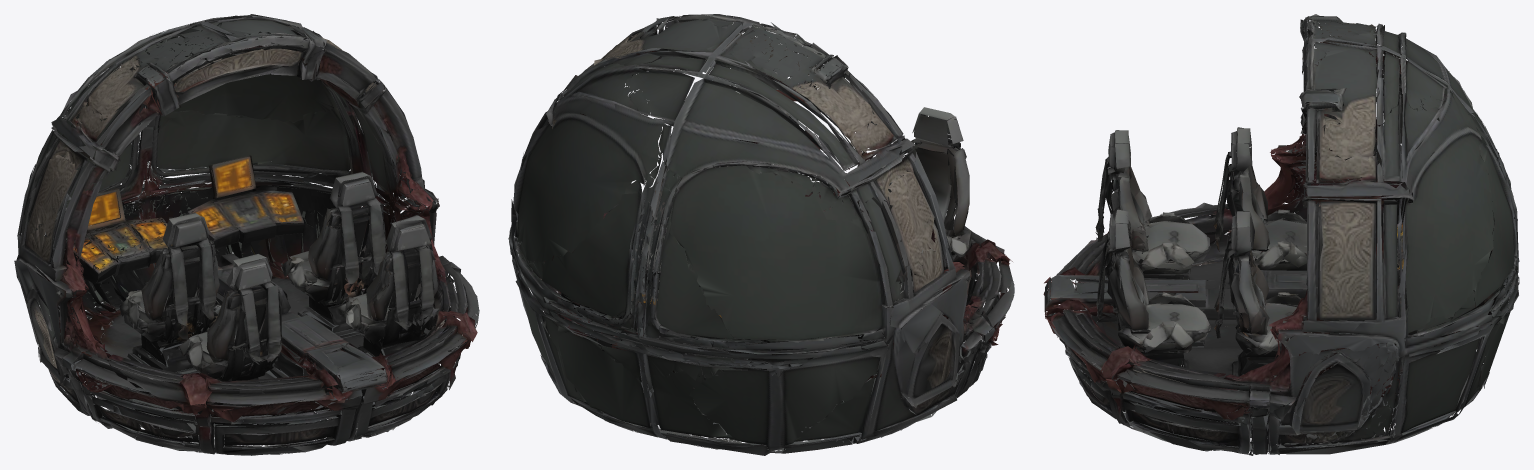
File: evac_empty_cockpit_quad.glb
3 renders of one model, left to right at view 1: azimuth 30°, elevation 25°; view 2: azimuth 150°, elevation 25°; view 3: azimuth 270°, elevation 25°, orthographic. The views are drawn at different scales.
Parts seen in each view (by area): view 1: node_0; view 2: node_0; view 3: node_0.
Part boxes in pixels (left/top/right/bottom): node_0: left=14, top=14, right=479, bottom=455; node_0: left=508, top=14, right=1014, bottom=455; node_0: left=1043, top=14, right=1519, bottom=455.
Bounding box in the file's own units: 1.01 × 0.82 × 1.04.
Materials: 1 (1 with a texture image).
